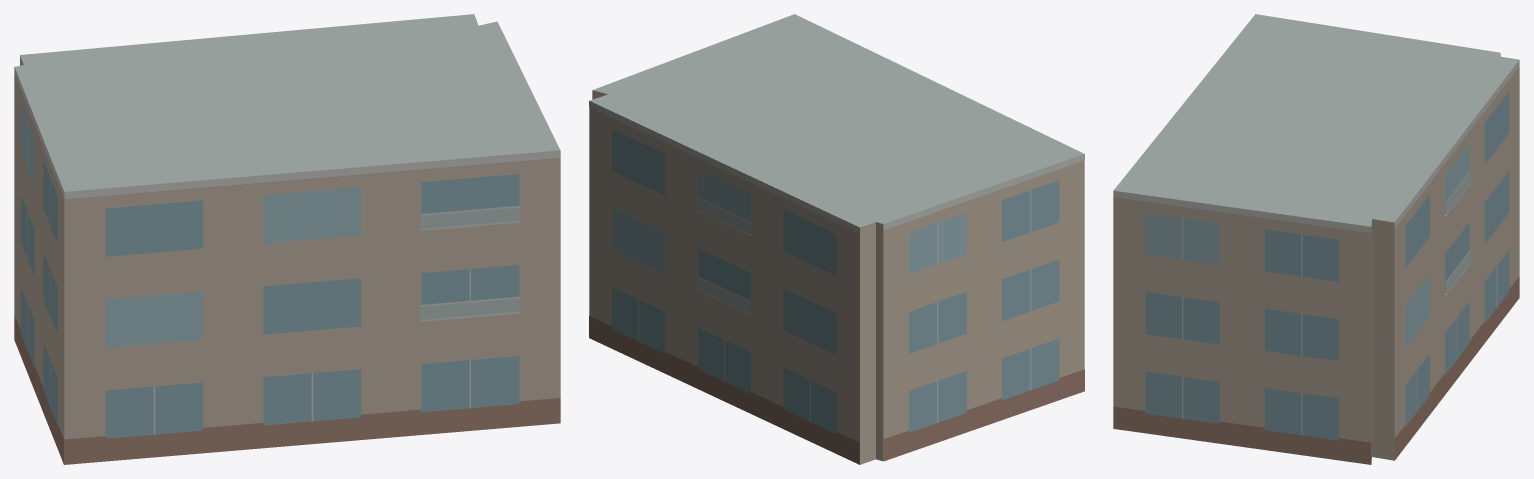
File: survey-upis-32979148.glb
The picture shows the model from 3 angles, left to right: view 1: azimuth 30°, elevation 25°; view 2: azimuth 150°, elevation 25°; view 3: azimuth 270°, elevation 25°; orthographic projection. The views are drawn at different scales.
Parts seen in each view (by area): view 1: survey-upis-32979148.tmp; view 2: survey-upis-32979148.tmp; view 3: survey-upis-32979148.tmp.
Part boxes in pixels (bbox=[...]): survey-upis-32979148.tmp: bbox=[14, 14, 560, 464]; survey-upis-32979148.tmp: bbox=[589, 14, 1084, 464]; survey-upis-32979148.tmp: bbox=[1113, 14, 1519, 464].
Bounding box in the file's own units: 17.54 × 9.15 × 14.16.
